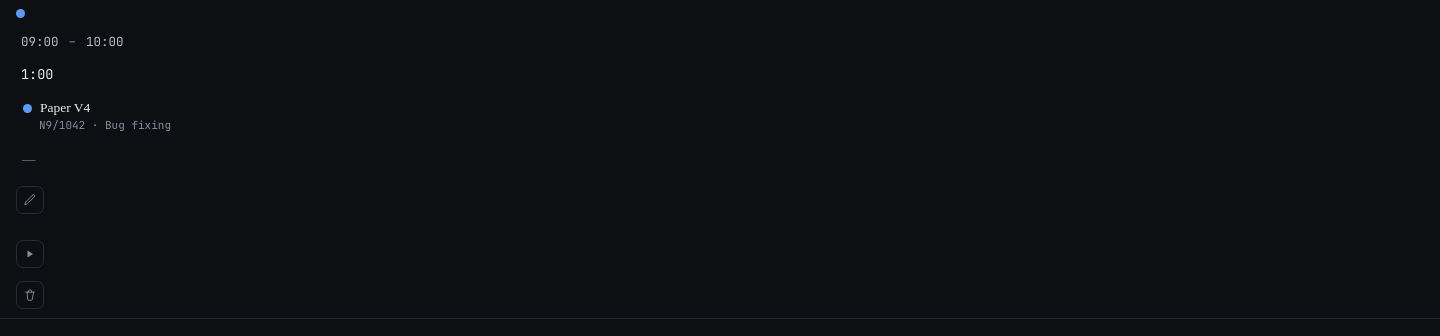
Test: EntryRow — empty description invite (BIZ-040) › hides the "Add a description…" invite at rest and reveals it on row hover
The width and height of the screenshot is (1440, 336).
Check: the text "Add a description…" is not shown
Hover over the element with class "wk-entry-row" at (720, 160), box [0,0,1439,319]
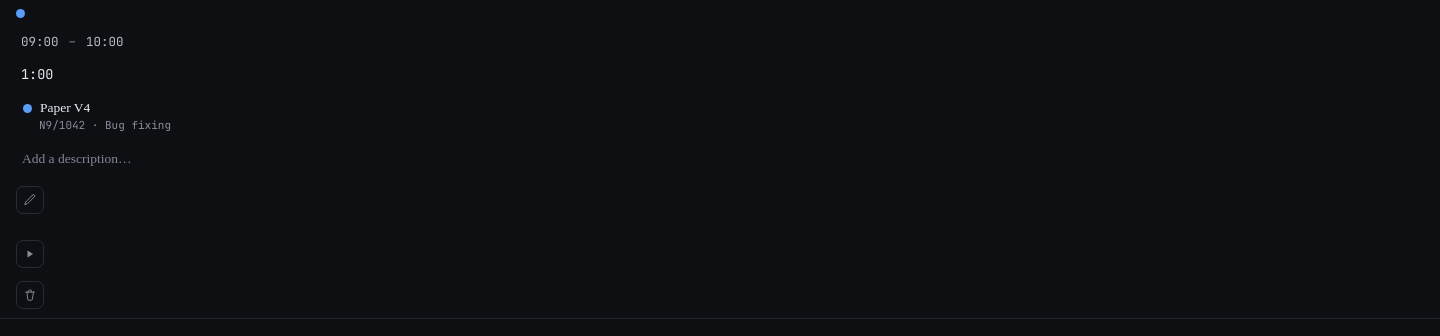
Check: the text "Add a description…" is shown, box [16,149,138,169]
